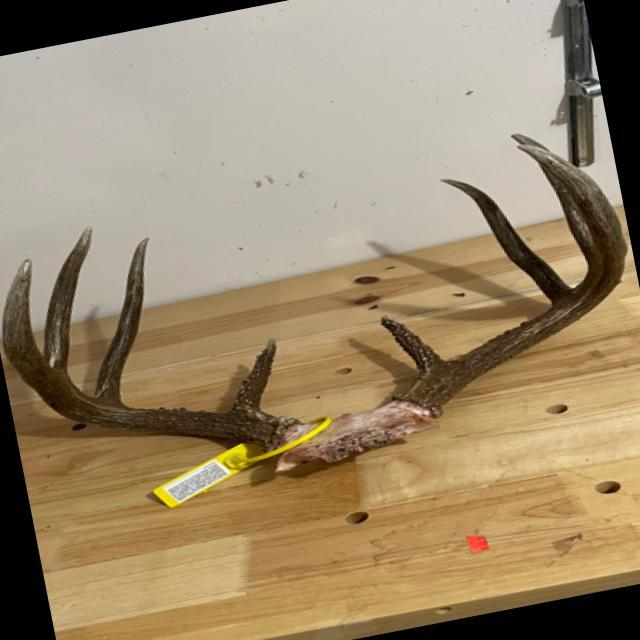L-F: (390, 144, 630, 418)
L-G1: (377, 313, 446, 380)
L-G2: (438, 177, 574, 308)
R-F: (0, 258, 303, 454)
R-G1: (228, 336, 278, 415)
R-G2: (94, 235, 152, 408)
R-G3: (42, 225, 93, 378)
